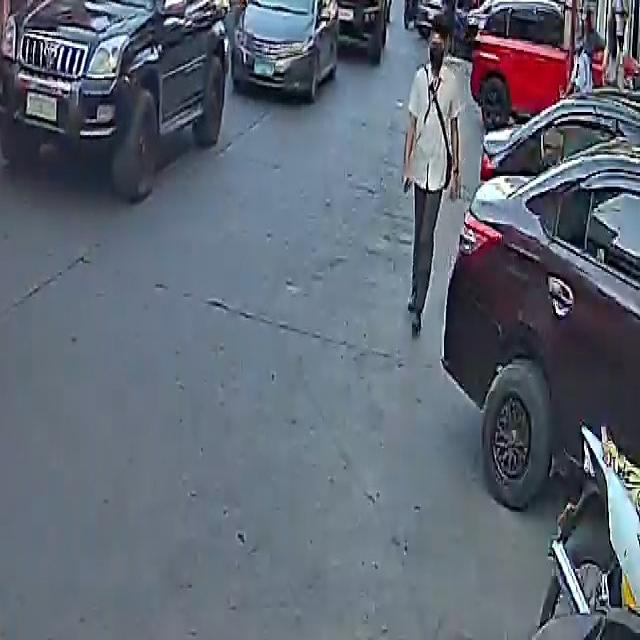car: (444, 77, 640, 534), (0, 0, 237, 197), (468, 0, 580, 130), (230, 0, 343, 101), (322, 0, 391, 52)
